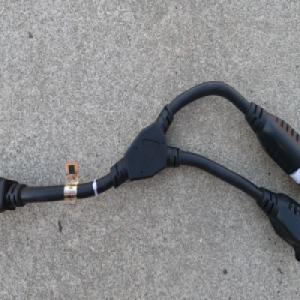Wire: (0, 78, 300, 261)
